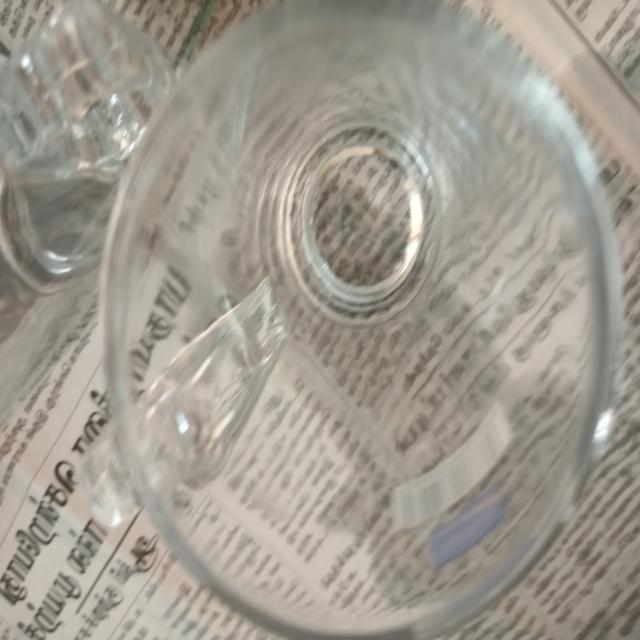glass-VX4N: (75, 0, 620, 639)
